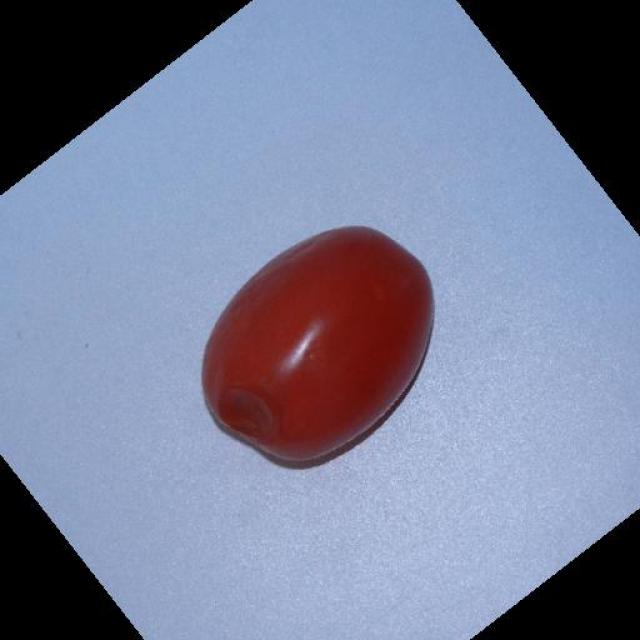Stale_tomato: (203, 199, 419, 479)
